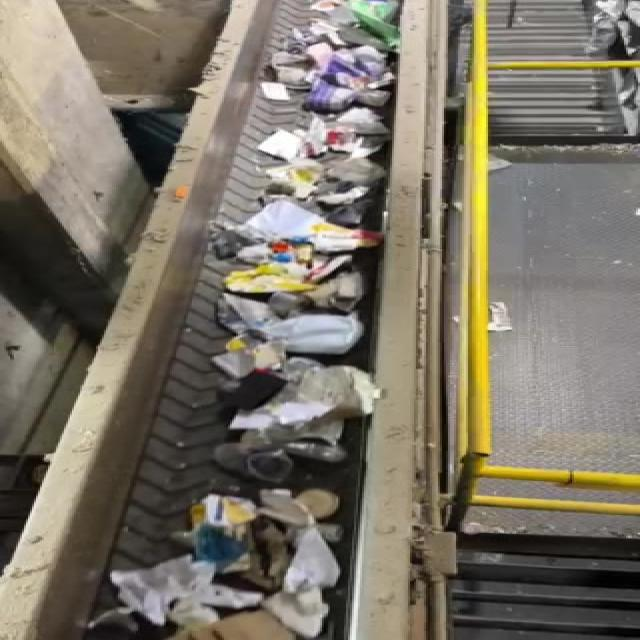paper: (195, 496, 353, 594), (105, 558, 212, 623), (283, 369, 382, 420)
pp: (172, 440, 370, 488)
